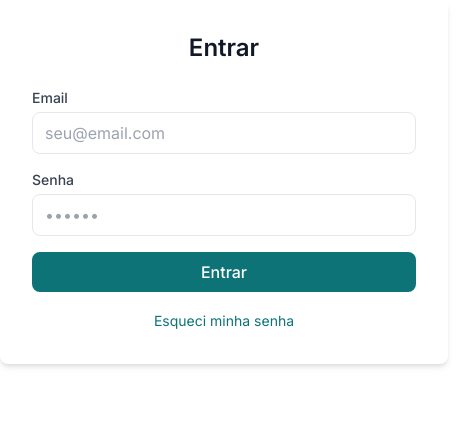
it: LoginForm › general error on login failure › shows 'Email ou senha inválidos' when login returns false
This screenshot has width=466, height=421.
Type "user@example.com" into the field labelled "Email" at {"x": 224, "y": 133}, box [32,112,416,154]
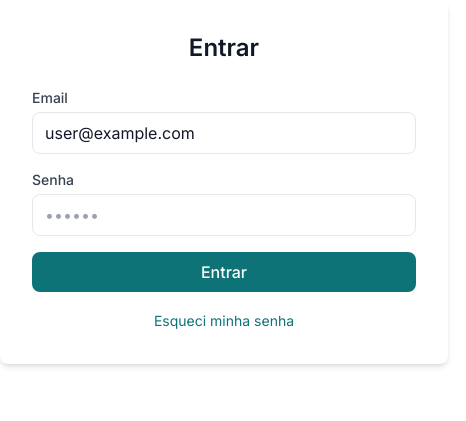
Type "wrongpass" into the password field labelled "Senha" at {"x": 224, "y": 215}, box [32,194,416,236]
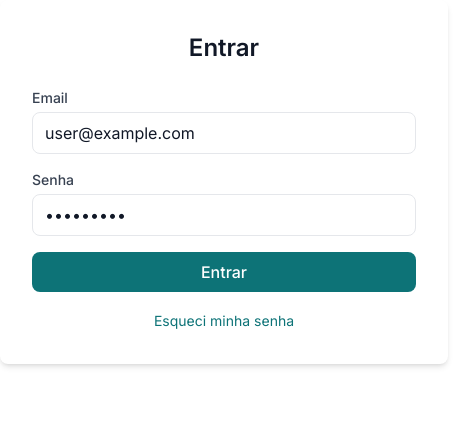
Click the button "Entrar" at {"x": 224, "y": 272}, box [32,252,416,292]
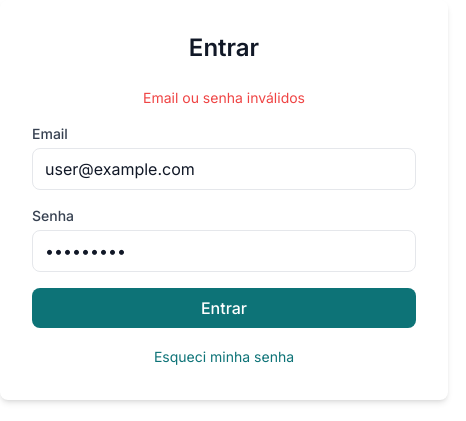
Expected: the text "Email ou senha inválidos" is shown, [143,89,305,106]
